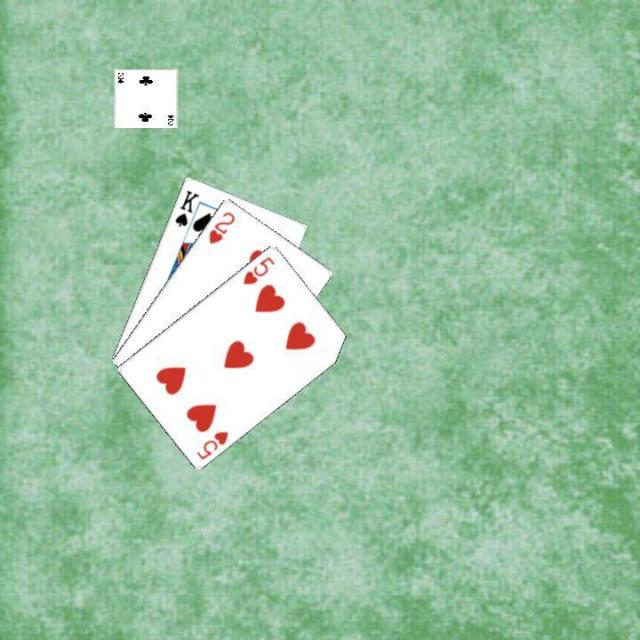2H: (205, 207, 238, 245)
5H: (239, 252, 277, 286), (193, 427, 230, 461)
KS: (171, 186, 201, 228)
